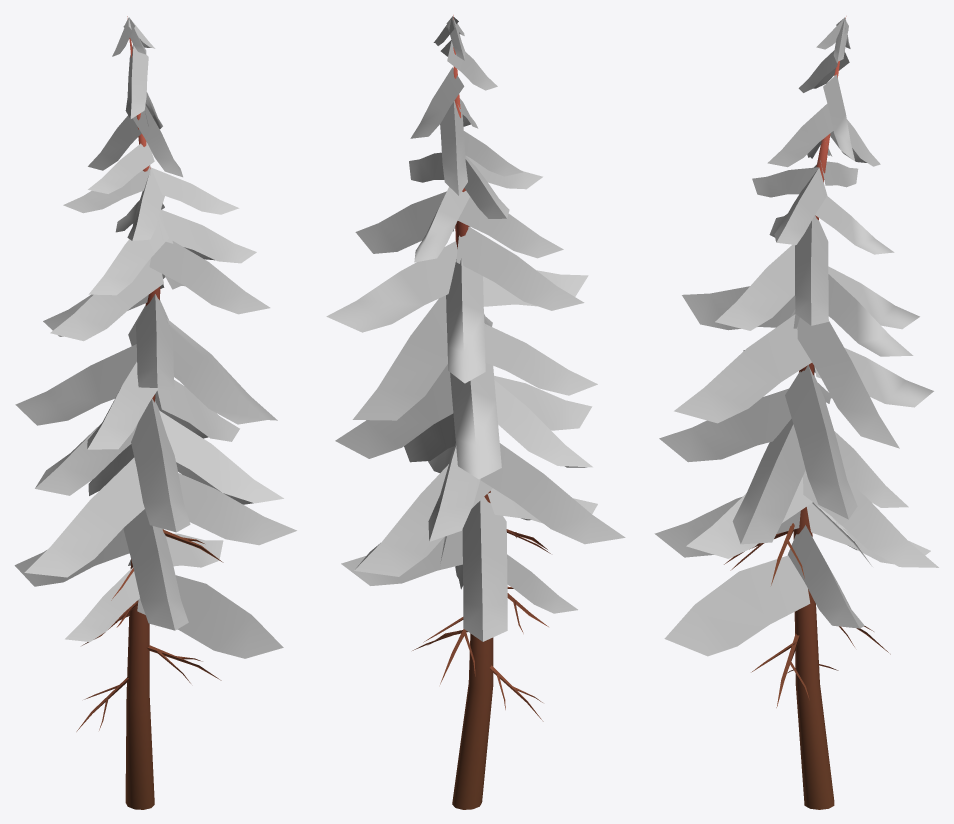
The model's file is Tree2.fbx.
3 renders of one model, left to right at view 1: azimuth 30°, elevation 25°; view 2: azimuth 150°, elevation 25°; view 3: azimuth 270°, elevation 25°, orthographic. The views are drawn at different scales.
Visible parts, largest first — view 1: Tree2; view 2: Tree2; view 3: Tree2.
Boxes of the visible parts, <box> form: Tree2: <box>14,16,296,809</box>; Tree2: <box>326,15,625,809</box>; Tree2: <box>654,16,938,809</box>.
Size of the model in its own units: 8.14 by 24.28 by 7.94.
